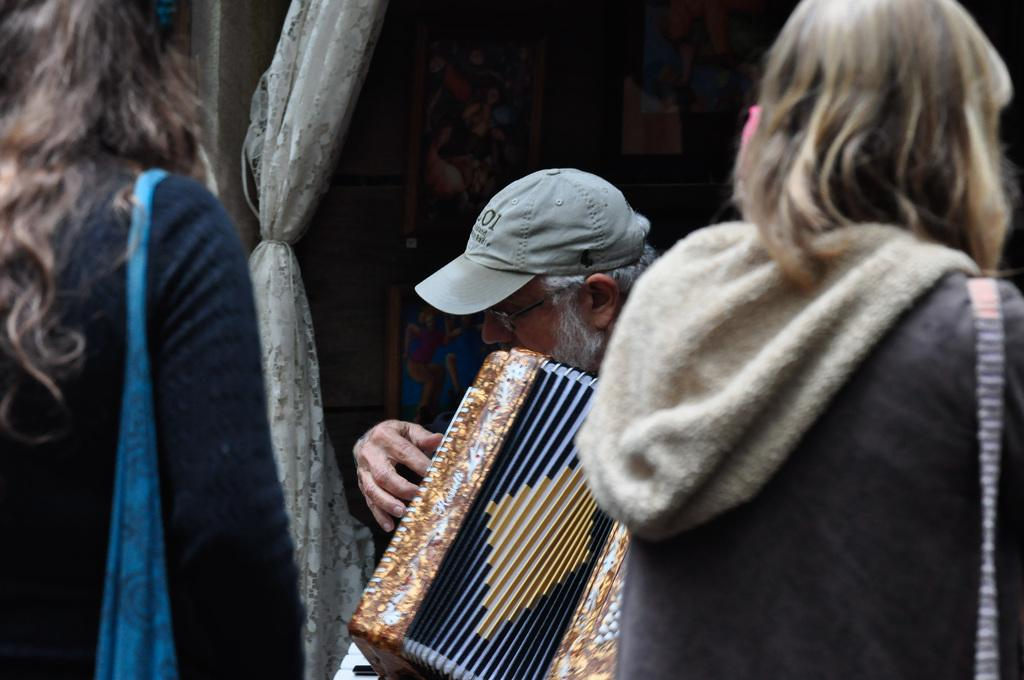Hat: (414, 166, 650, 316)
